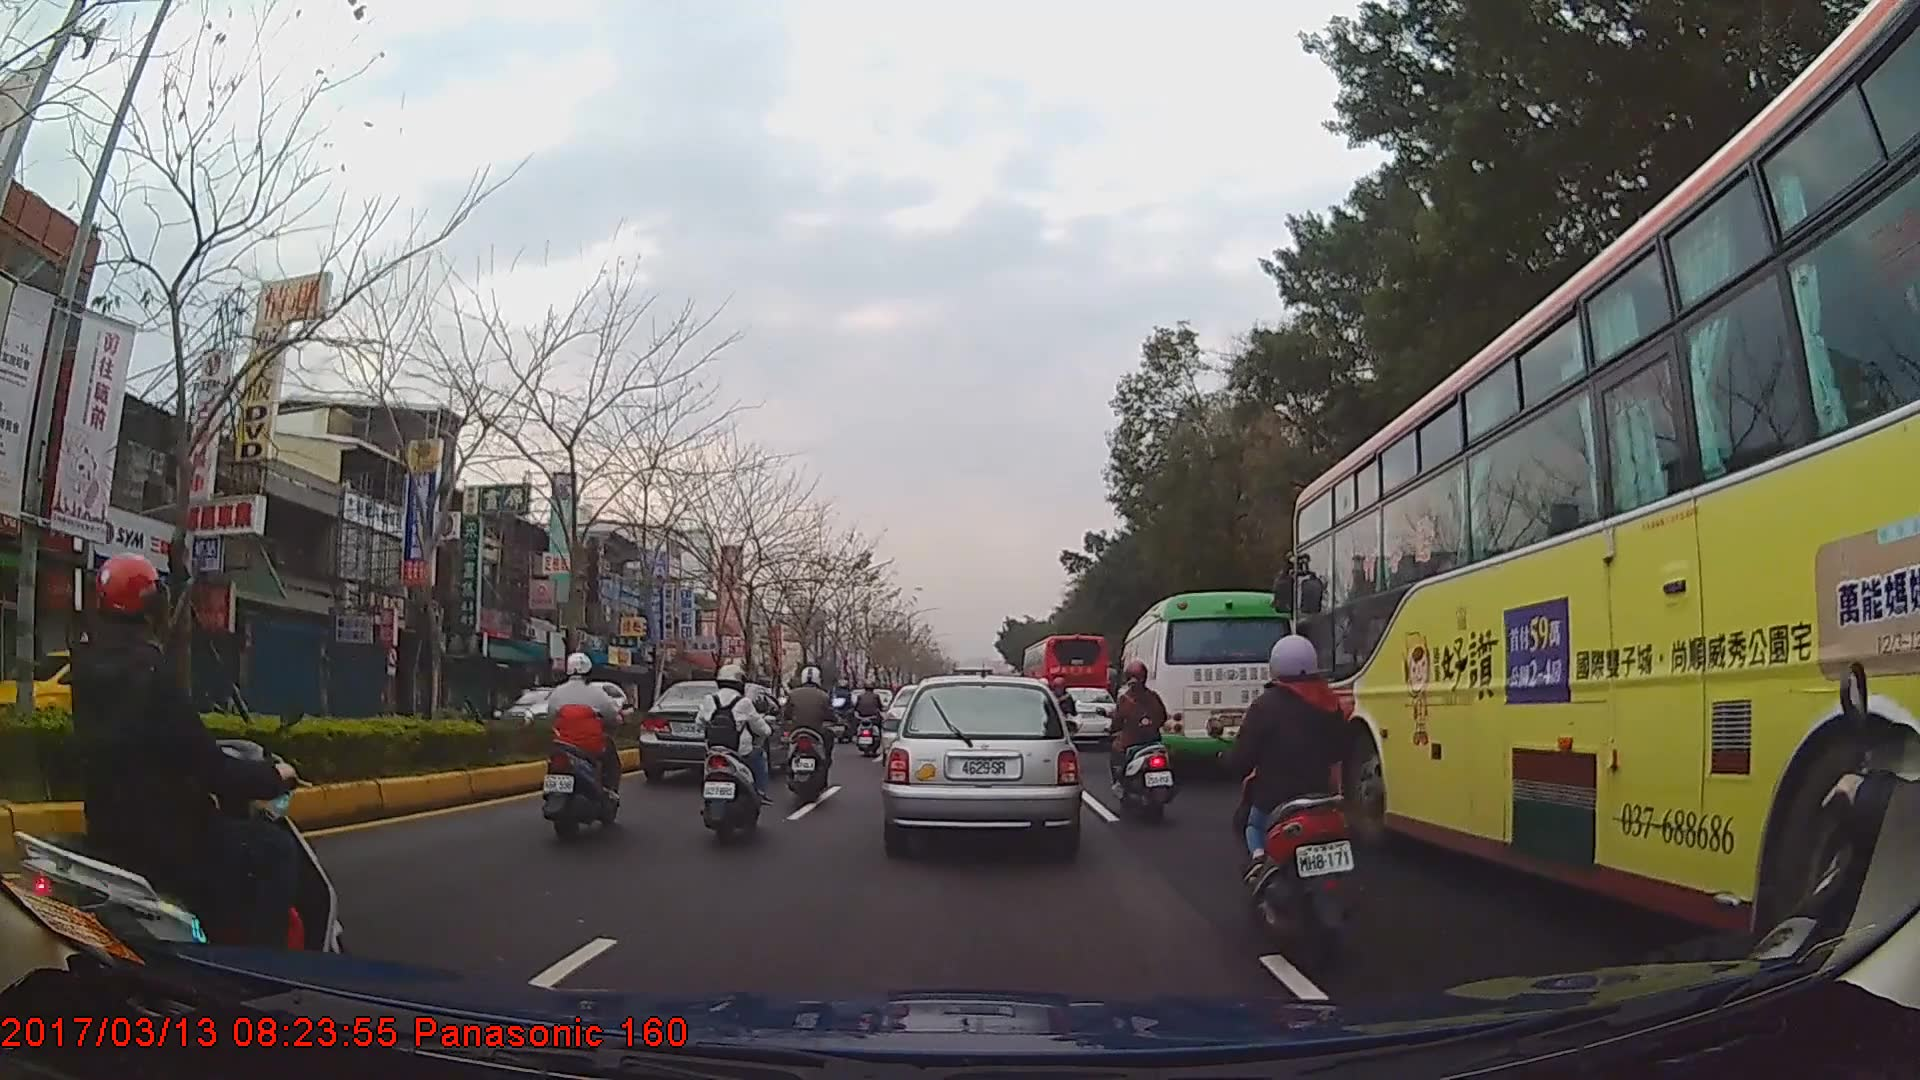rider: (15, 552, 346, 982), (1229, 631, 1362, 964), (545, 651, 626, 842), (693, 662, 770, 846), (1110, 662, 1175, 816), (780, 666, 844, 806), (853, 681, 888, 759), (836, 680, 859, 725)
vehicle: (1288, 0, 1920, 1018), (883, 671, 1080, 852), (1115, 590, 1296, 782), (637, 677, 794, 787), (1020, 632, 1108, 743)
